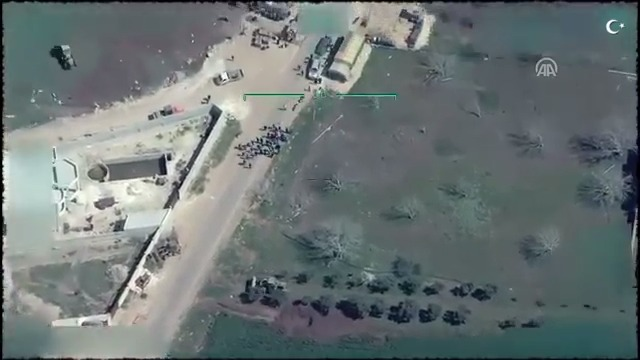arac: (244, 267, 290, 303), (57, 33, 83, 73), (214, 65, 248, 87)
insan: (247, 161, 255, 169)
